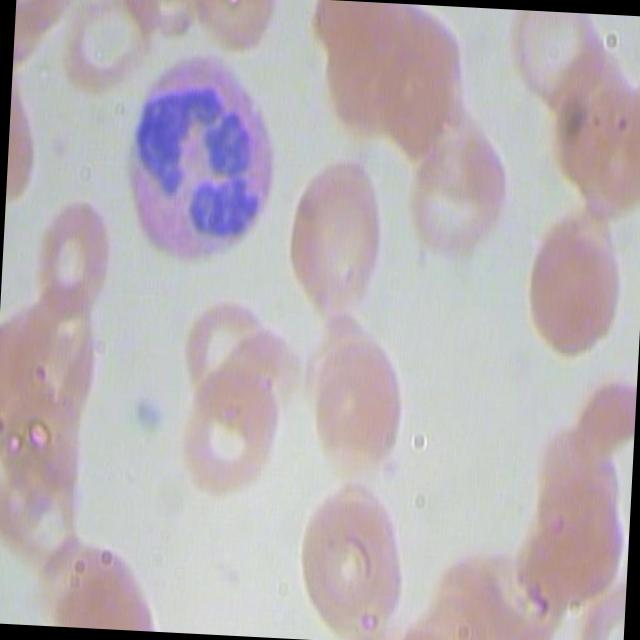Platelets: (125, 378, 167, 444)
RBC: (278, 482, 413, 640), (508, 205, 640, 366), (352, 2, 484, 153), (390, 111, 508, 278), (276, 147, 394, 313), (296, 322, 414, 488), (175, 349, 288, 505), (508, 481, 631, 619), (8, 276, 110, 433), (28, 186, 122, 317), (202, 320, 304, 434), (172, 284, 274, 398), (45, 536, 161, 630), (504, 10, 610, 111), (48, 0, 157, 90), (563, 364, 637, 475)
WBC: (100, 32, 294, 272)
